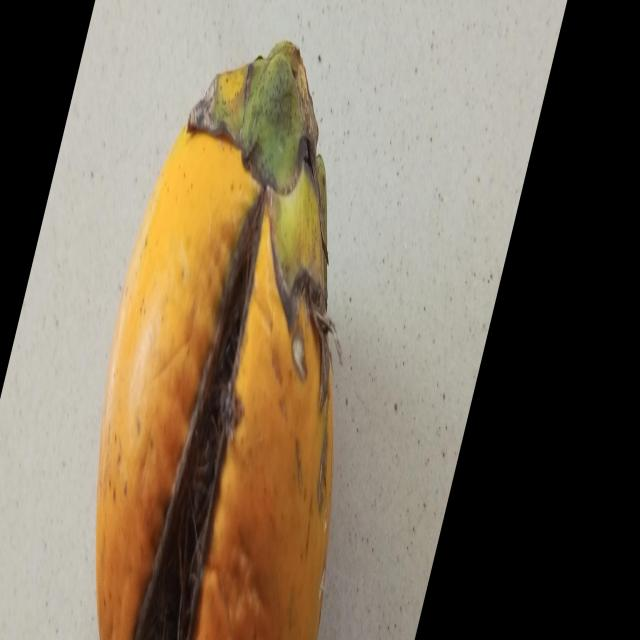damaged: (94, 42, 334, 640)
